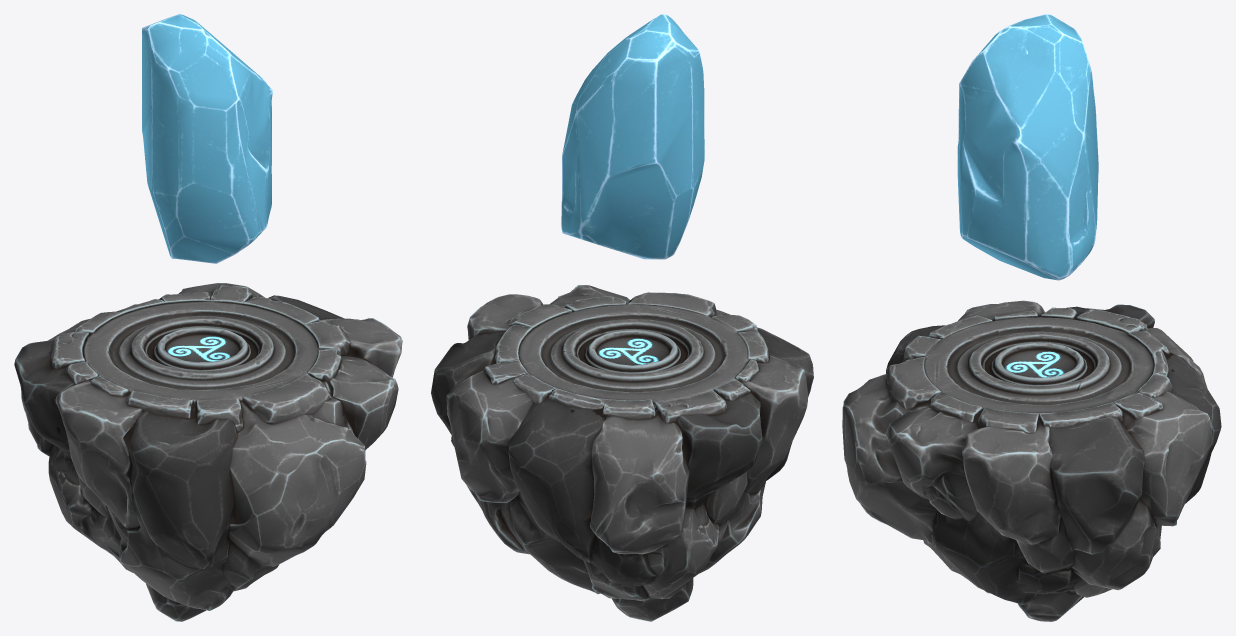
File: fantasy_rock.glb
3 views of the same model, side by side, from view 1: azimuth 30°, elevation 25°; view 2: azimuth 150°, elevation 25°; view 3: azimuth 270°, elevation 25° (orthographic).
Parts seen in each view (by area): view 1: rocks_03:Group10022_0_Material #25_0, Object001_Material #26_0; view 2: rocks_03:Group10022_0_Material #25_0, Object001_Material #26_0; view 3: rocks_03:Group10022_0_Material #25_0, Object001_Material #26_0.
Boxes of the visible parts, x1=… form: rocks_03:Group10022_0_Material #25_0: x1=14, y1=283, x2=402, y2=621; Object001_Material #26_0: x1=142, y1=14, x2=272, y2=263; rocks_03:Group10022_0_Material #25_0: x1=431, y1=285, x2=813, y2=621; Object001_Material #26_0: x1=561, y1=14, x2=704, y2=259; rocks_03:Group10022_0_Material #25_0: x1=842, y1=300, x2=1221, y2=621; Object001_Material #26_0: x1=957, y1=14, x2=1098, y2=280.
Bounding box in the file's own units: 31.21 × 54.39 × 31.38.
Materials: 2 (2 with a texture image).
